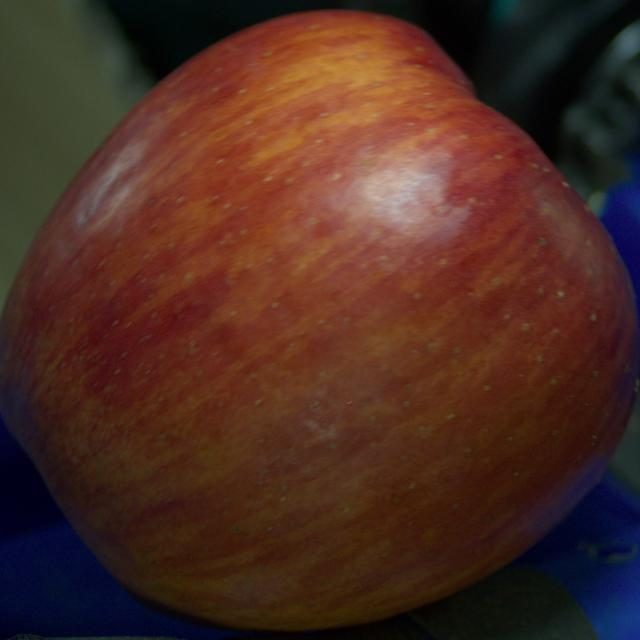apple: (0, 11, 639, 632)
